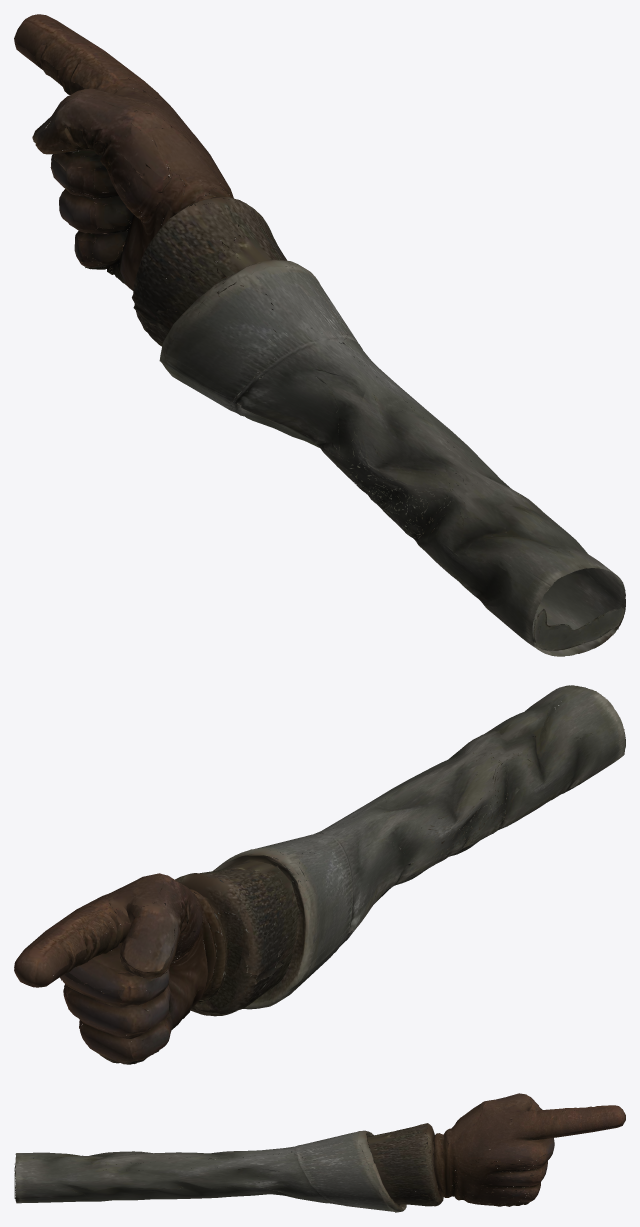
File: glove.glb
The picture shows the model from 3 angles, top to bottom: view 1: azimuth 30°, elevation 25°; view 2: azimuth 150°, elevation 25°; view 3: azimuth 270°, elevation 25°; orthographic projection. The views are drawn at different scales.
Visible parts, largest first — view 1: Glove; view 2: Glove; view 3: Glove.
Part boxes in pixels (x1=…): Glove: x1=14, y1=14, x2=625, y2=656; Glove: x1=14, y1=685, x2=625, y2=1064; Glove: x1=14, y1=1093, x2=625, y2=1212.
Size of the model in its own units: 0.0899 by 0.1174 by 0.6041.
1 material, 1 textured.
